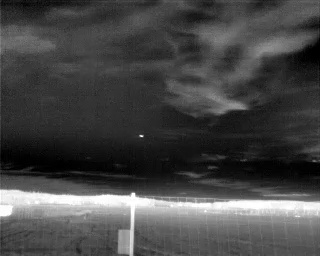AIRPLANE: (138, 132, 145, 139)
